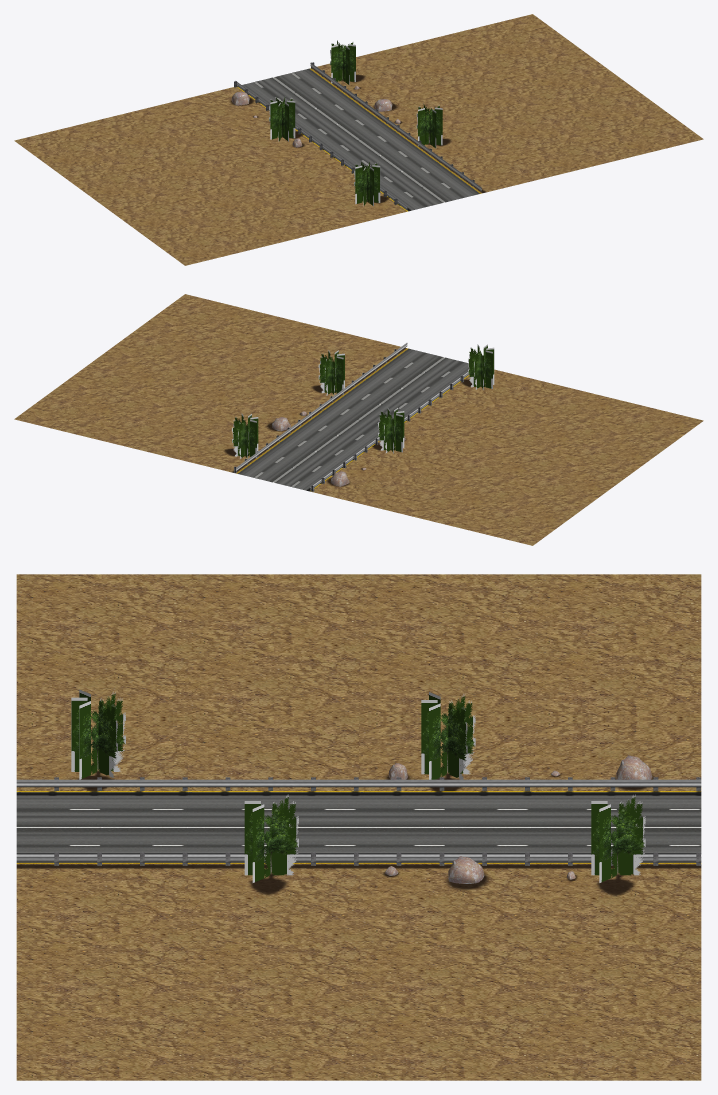
The picture shows the model from 3 angles, top to bottom: view 1: azimuth 30°, elevation 25°; view 2: azimuth 150°, elevation 25°; view 3: azimuth 270°, elevation 25°; orthographic projection. The views are drawn at different scales.
Parts seen in each view (by area): view 1: land002, road002, tree2, relling002, rock003; view 2: land002, road002, tree2, relling002, rock003; view 3: land002, road002, tree2, relling002, rock003.
Part boxes in pixels (x1,y1,x2,y2): land002: [14, 14, 703, 265]; road002: [237, 68, 481, 211]; tree2: [269, 40, 442, 206]; relling002: [234, 62, 481, 209]; rock003: [231, 86, 400, 147]; land002: [14, 294, 703, 545]; road002: [236, 348, 469, 491]; tree2: [232, 344, 494, 458]; relling002: [234, 343, 469, 491]; rock003: [272, 411, 405, 486]; land002: [16, 574, 701, 1080]; road002: [16, 791, 701, 863]; tree2: [71, 689, 645, 882]; relling002: [16, 777, 701, 865]; rock003: [385, 755, 652, 883].
Size of the model in its own units: 140 by 10.03 by 80.
